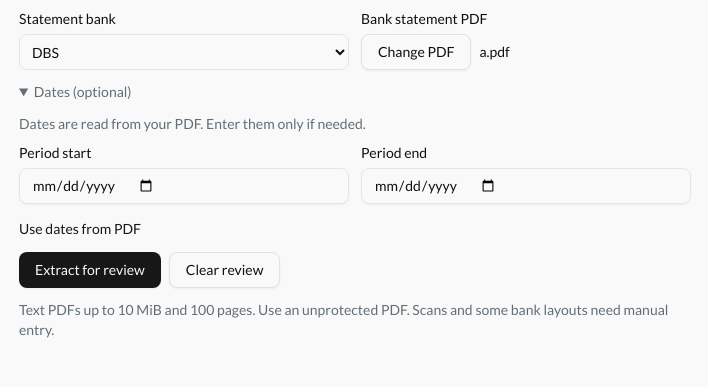
Test: clears the error when using the dates from the PDF
The width and height of the screenshot is (708, 387).
Submit the form named "extract"
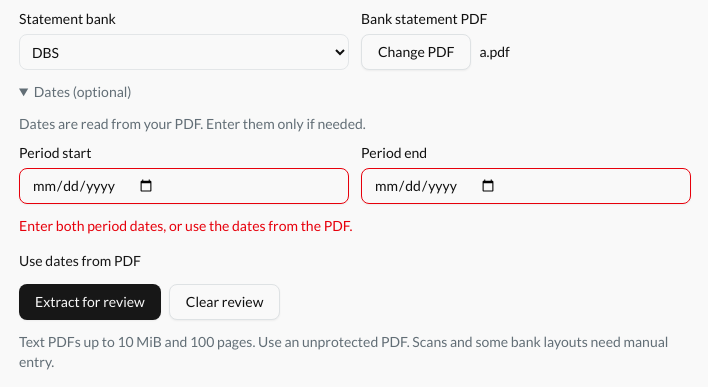
Now the message "Enter both period dates, or use the dates from the PDF." is shown, box [19,217,352,234]
Click the button "Use dates from PDF" at (80, 261), box [19,251,141,271]
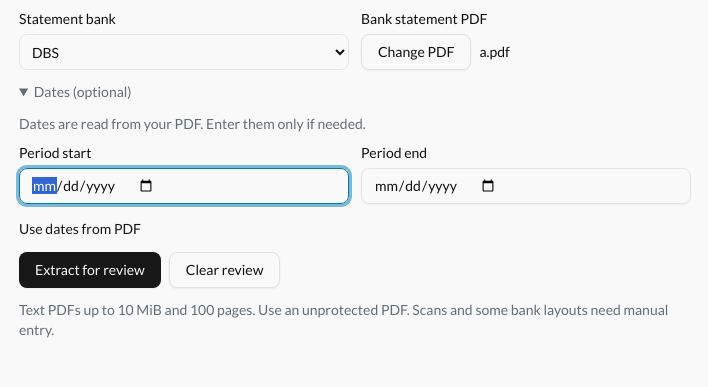
Now the message "Enter both period dates, or use the dates from the PDF." is gone
